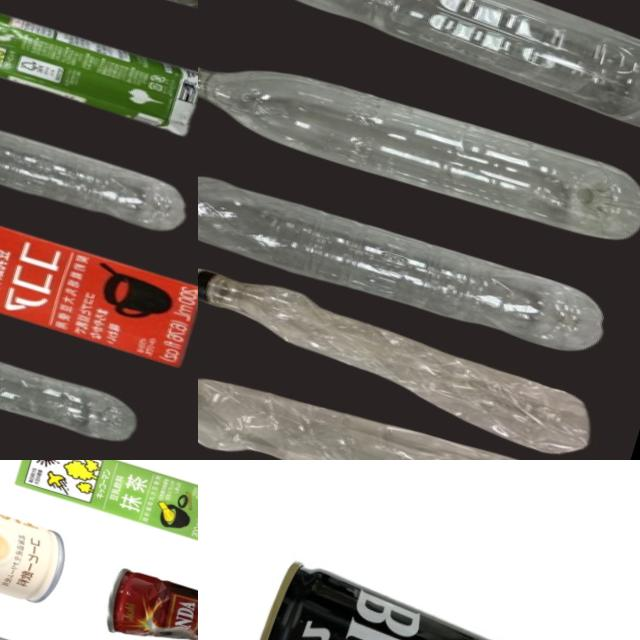Aluminium Foil: (0, 157, 198, 376), (0, 0, 198, 141), (7, 460, 198, 545)
Can: (219, 551, 613, 640), (0, 463, 74, 611), (96, 559, 198, 640)
Transparent Plastic Bottle: (198, 20, 640, 252), (198, 136, 609, 363), (198, 250, 597, 460), (198, 0, 640, 151), (198, 334, 569, 460), (0, 79, 195, 244), (0, 288, 149, 454)
